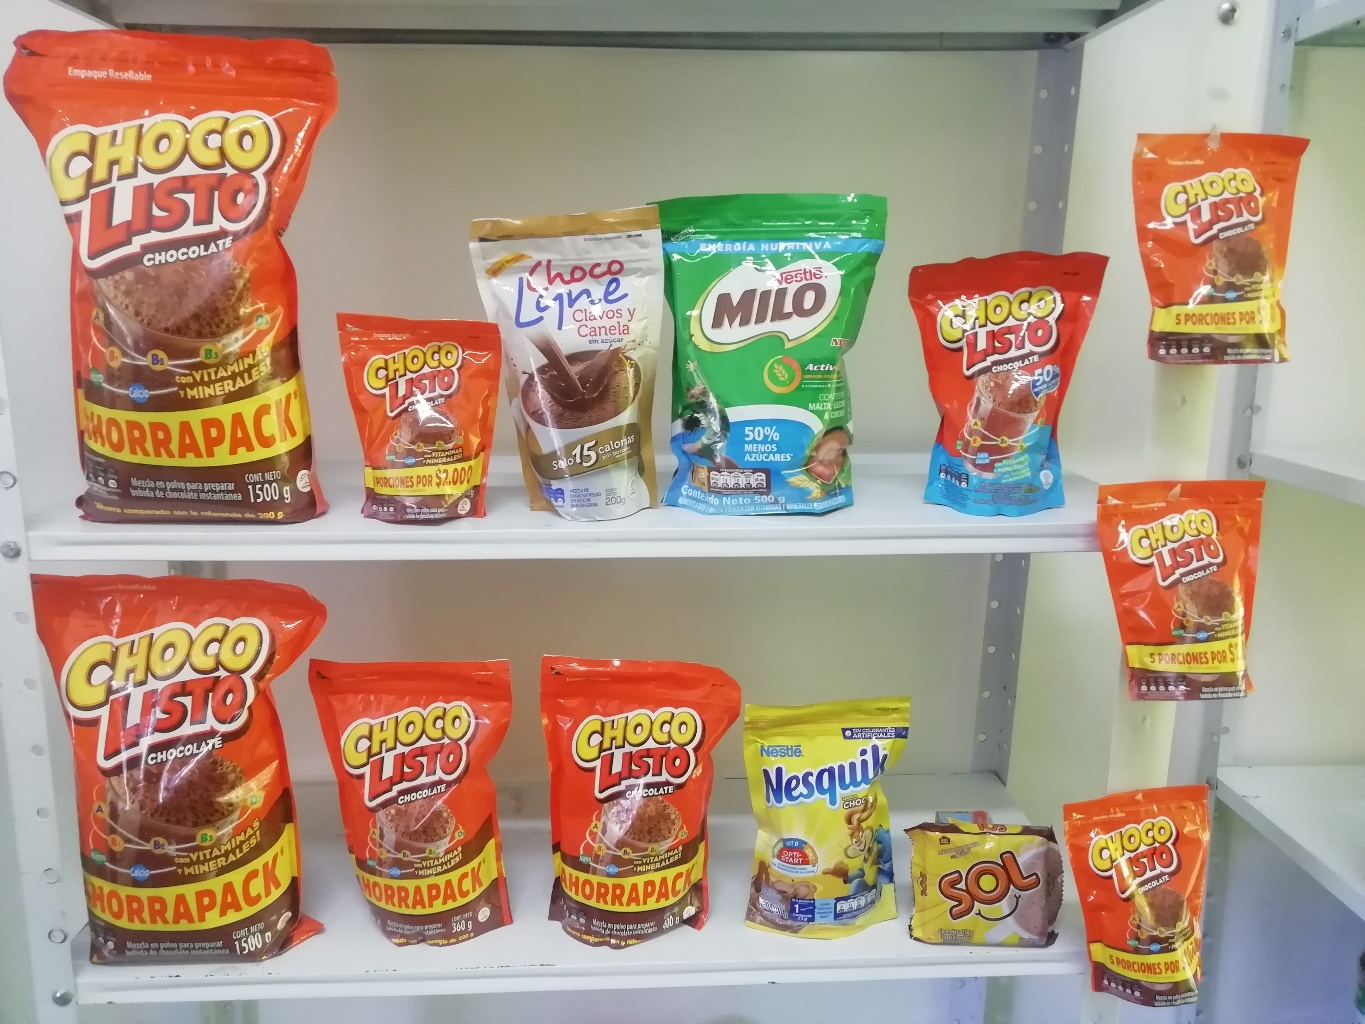COL0170103DYP1,500: (0, 26, 343, 526)
COL0170103DYP10000: (335, 309, 502, 523)
COL0170103DYP36000: (303, 652, 525, 952)
COL0170103DYP40000: (536, 646, 741, 954)
COL0170104DYP20000: (913, 253, 1107, 521)
COL0170205DYP50000: (651, 196, 895, 516)
COL0170303DYP20000: (741, 697, 911, 941)
